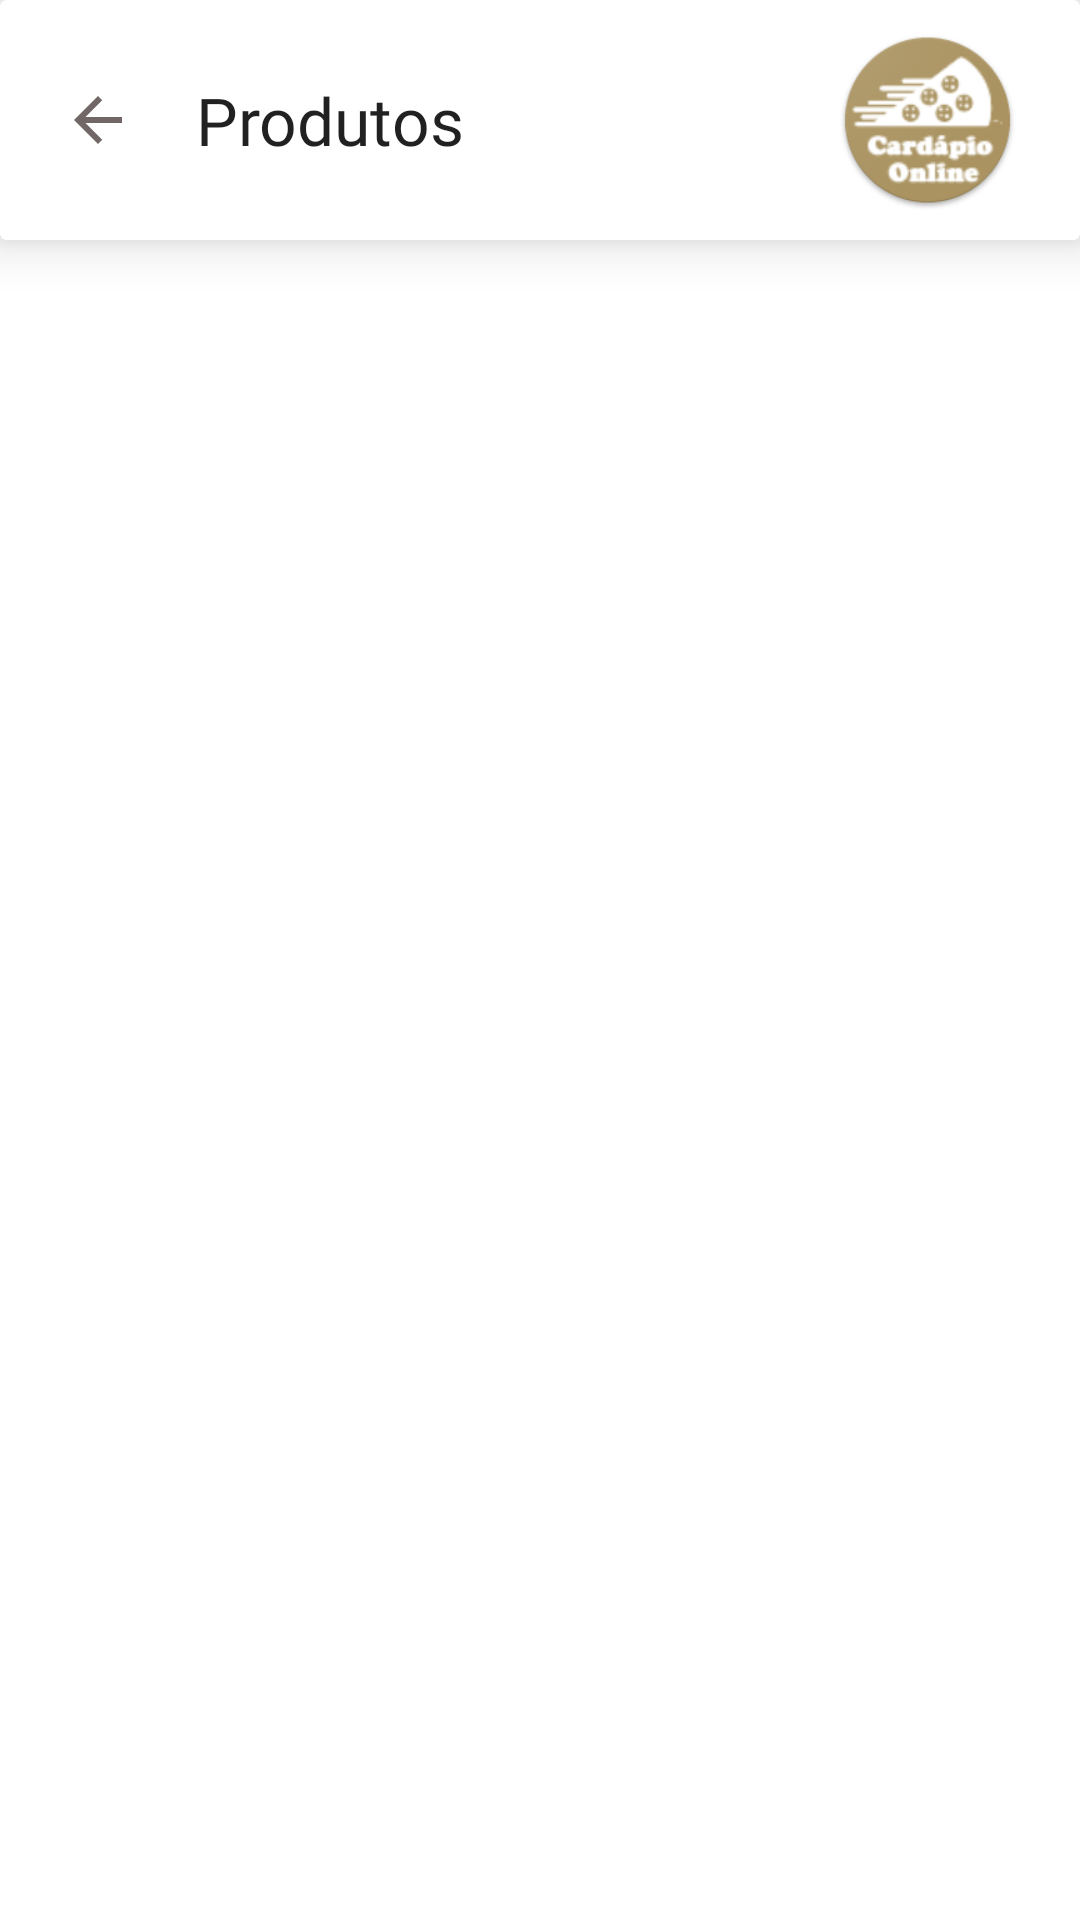

Point at icon controls on the screen. Image size 1080 x 1920, points as (x,y).
back: (98,120)
